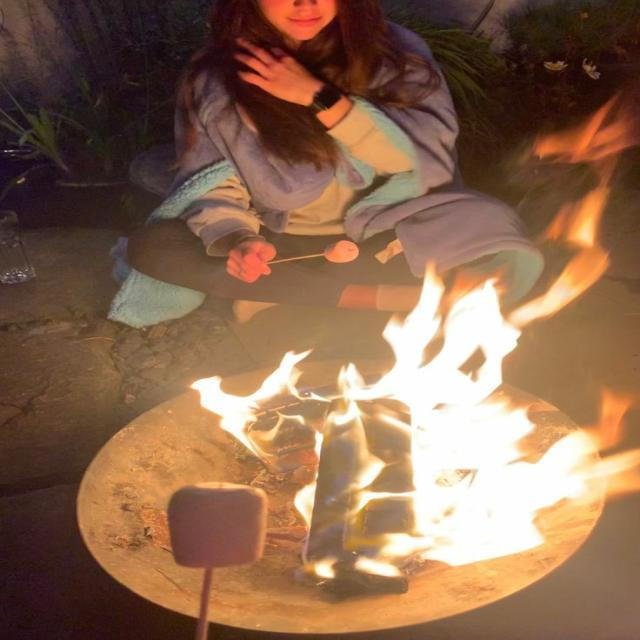Fire: (258, 241, 630, 577)
